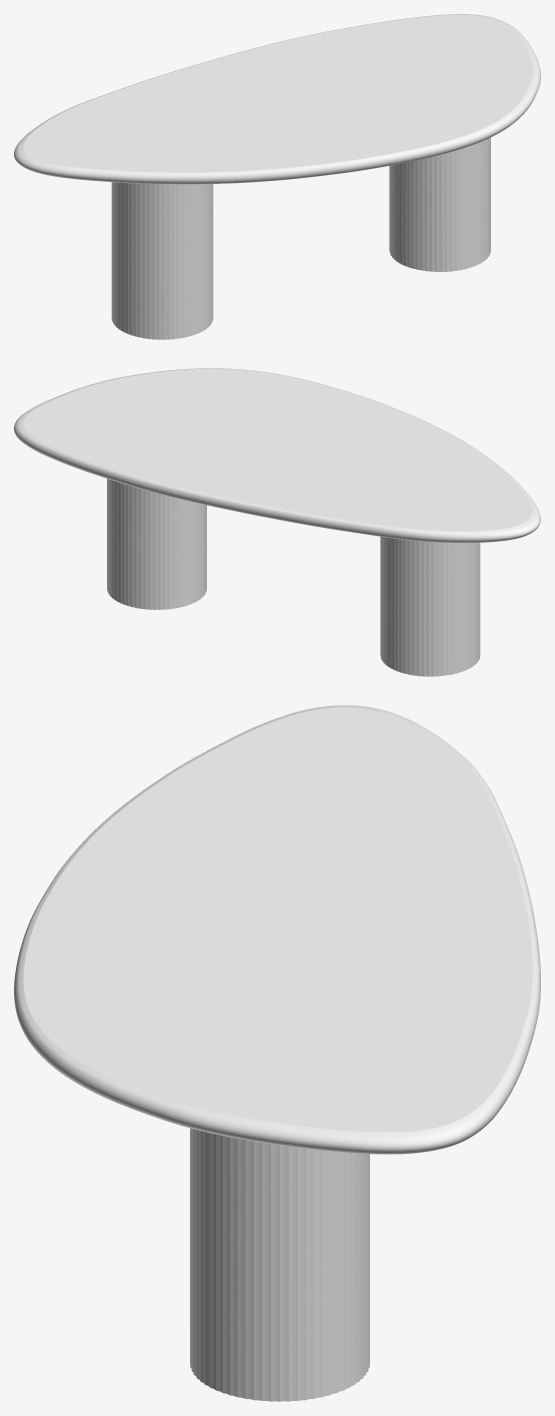
The model's file is purewhite_pebbletop_round_ripplesecond.glb.
The picture shows the model from 3 angles, top to bottom: view 1: azimuth 30°, elevation 25°; view 2: azimuth 150°, elevation 25°; view 3: azimuth 270°, elevation 25°; orthographic projection. The views are drawn at different scales.
Parts seen in each view (by area): view 1: round_pebbletop, ripplesecond; view 2: round_pebbletop, ripplesecond; view 3: round_pebbletop, ripplesecond.
Boxes of the visible parts, box(x1,y1,x2,y2) form: round_pebbletop: box(14, 14, 540, 184); ripplesecond: box(111, 137, 490, 339); round_pebbletop: box(14, 368, 540, 542); ripplesecond: box(107, 478, 480, 676); round_pebbletop: box(14, 705, 540, 1154); ripplesecond: box(190, 1128, 369, 1401).
Size of the model in its own units: 7.5 by 2.51 by 3.8.
1 material, 1 textured.
